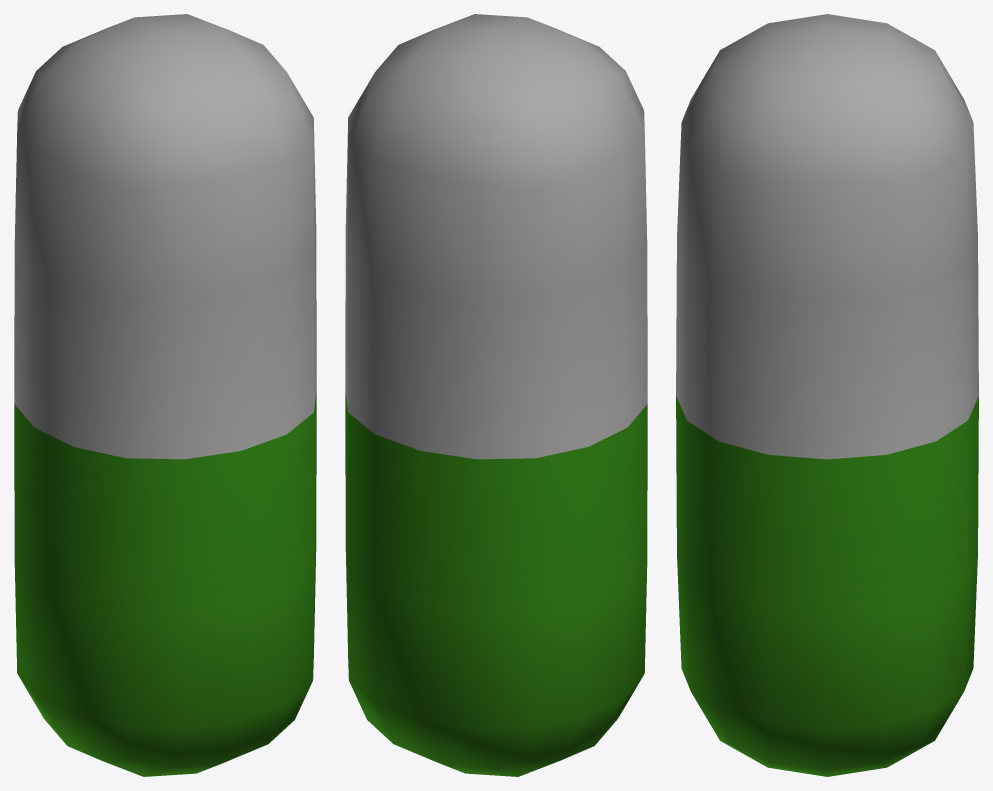
File: GreenPill.fbx
3 renders of one model, left to right at view 1: azimuth 30°, elevation 25°; view 2: azimuth 150°, elevation 25°; view 3: azimuth 270°, elevation 25°, orthographic.
Visible parts, largest first — view 1: PillGreen; view 2: PillGreen; view 3: PillGreen.
Boxes of the visible parts, left/top/right/bottom form: PillGreen: left=14, top=14, right=316, bottom=776; PillGreen: left=345, top=14, right=647, bottom=776; PillGreen: left=676, top=14, right=978, bottom=776.
Bounding box in the file's own units: 89.93 × 239 × 89.93.
